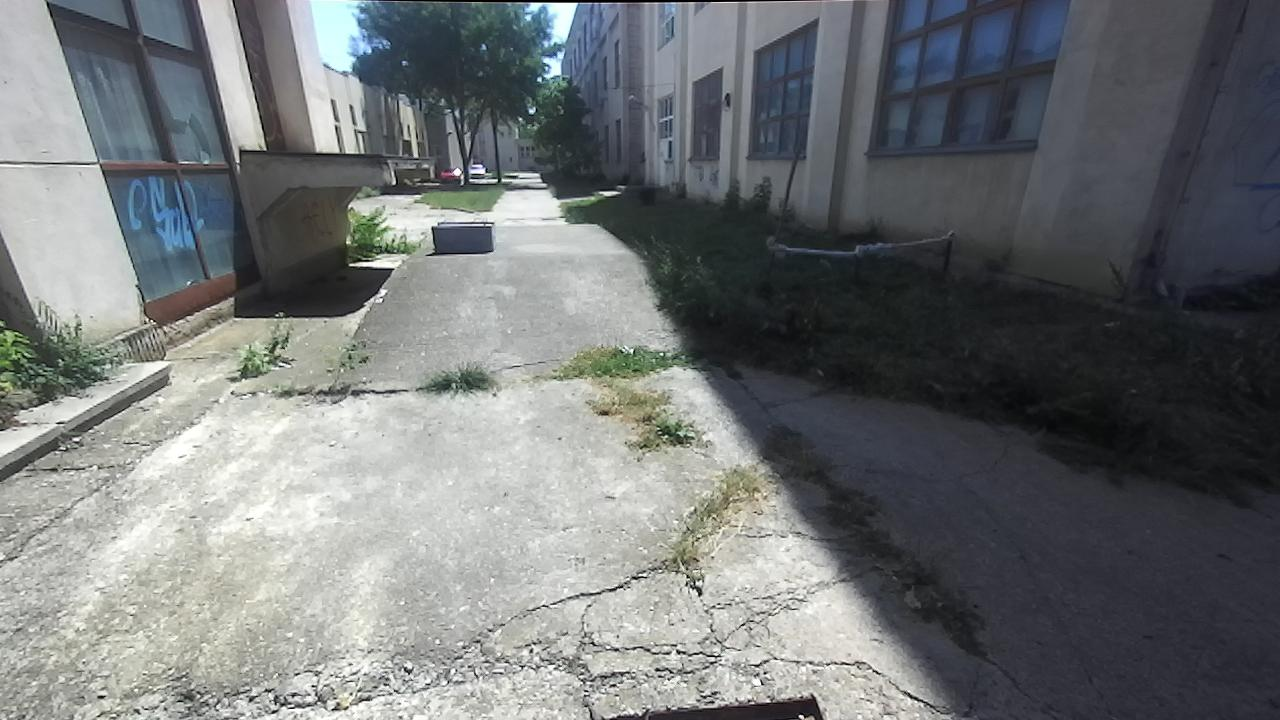drain: (605, 693, 830, 720)
